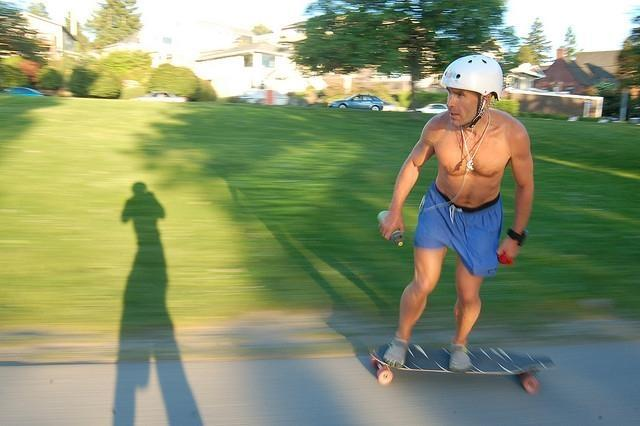car: (244, 88, 294, 108), (328, 93, 384, 110), (130, 91, 188, 102), (413, 102, 448, 114), (0, 88, 50, 96)
